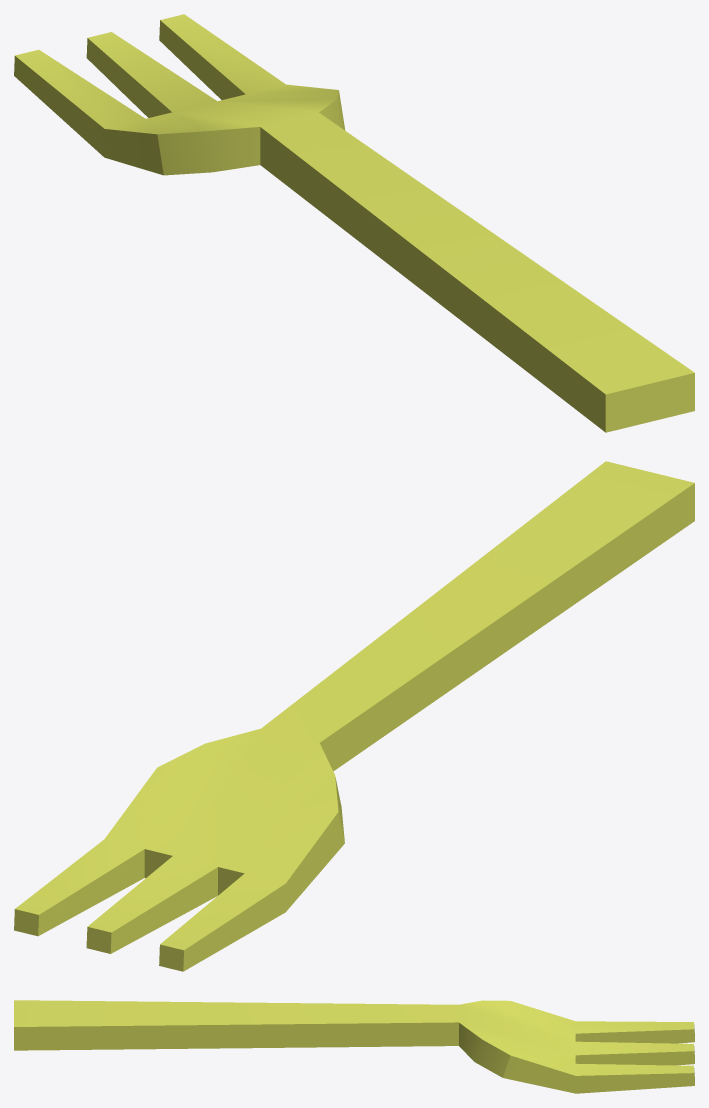
Rendered from li_utensilFork.fbx.
The picture shows the model from 3 angles, top to bottom: view 1: azimuth 30°, elevation 25°; view 2: azimuth 150°, elevation 25°; view 3: azimuth 270°, elevation 25°; orthographic projection. The views are drawn at different scales.
Visible parts, largest first — view 1: li_utensilFork; view 2: li_utensilFork; view 3: li_utensilFork.
Boxes of the visible parts, <box> form: li_utensilFork: <box>14,14,694,432</box>; li_utensilFork: <box>14,461,694,971</box>; li_utensilFork: <box>14,1000,694,1093</box>.
Size of the model in its own units: 4.3 by 1.93 by 22.63.
